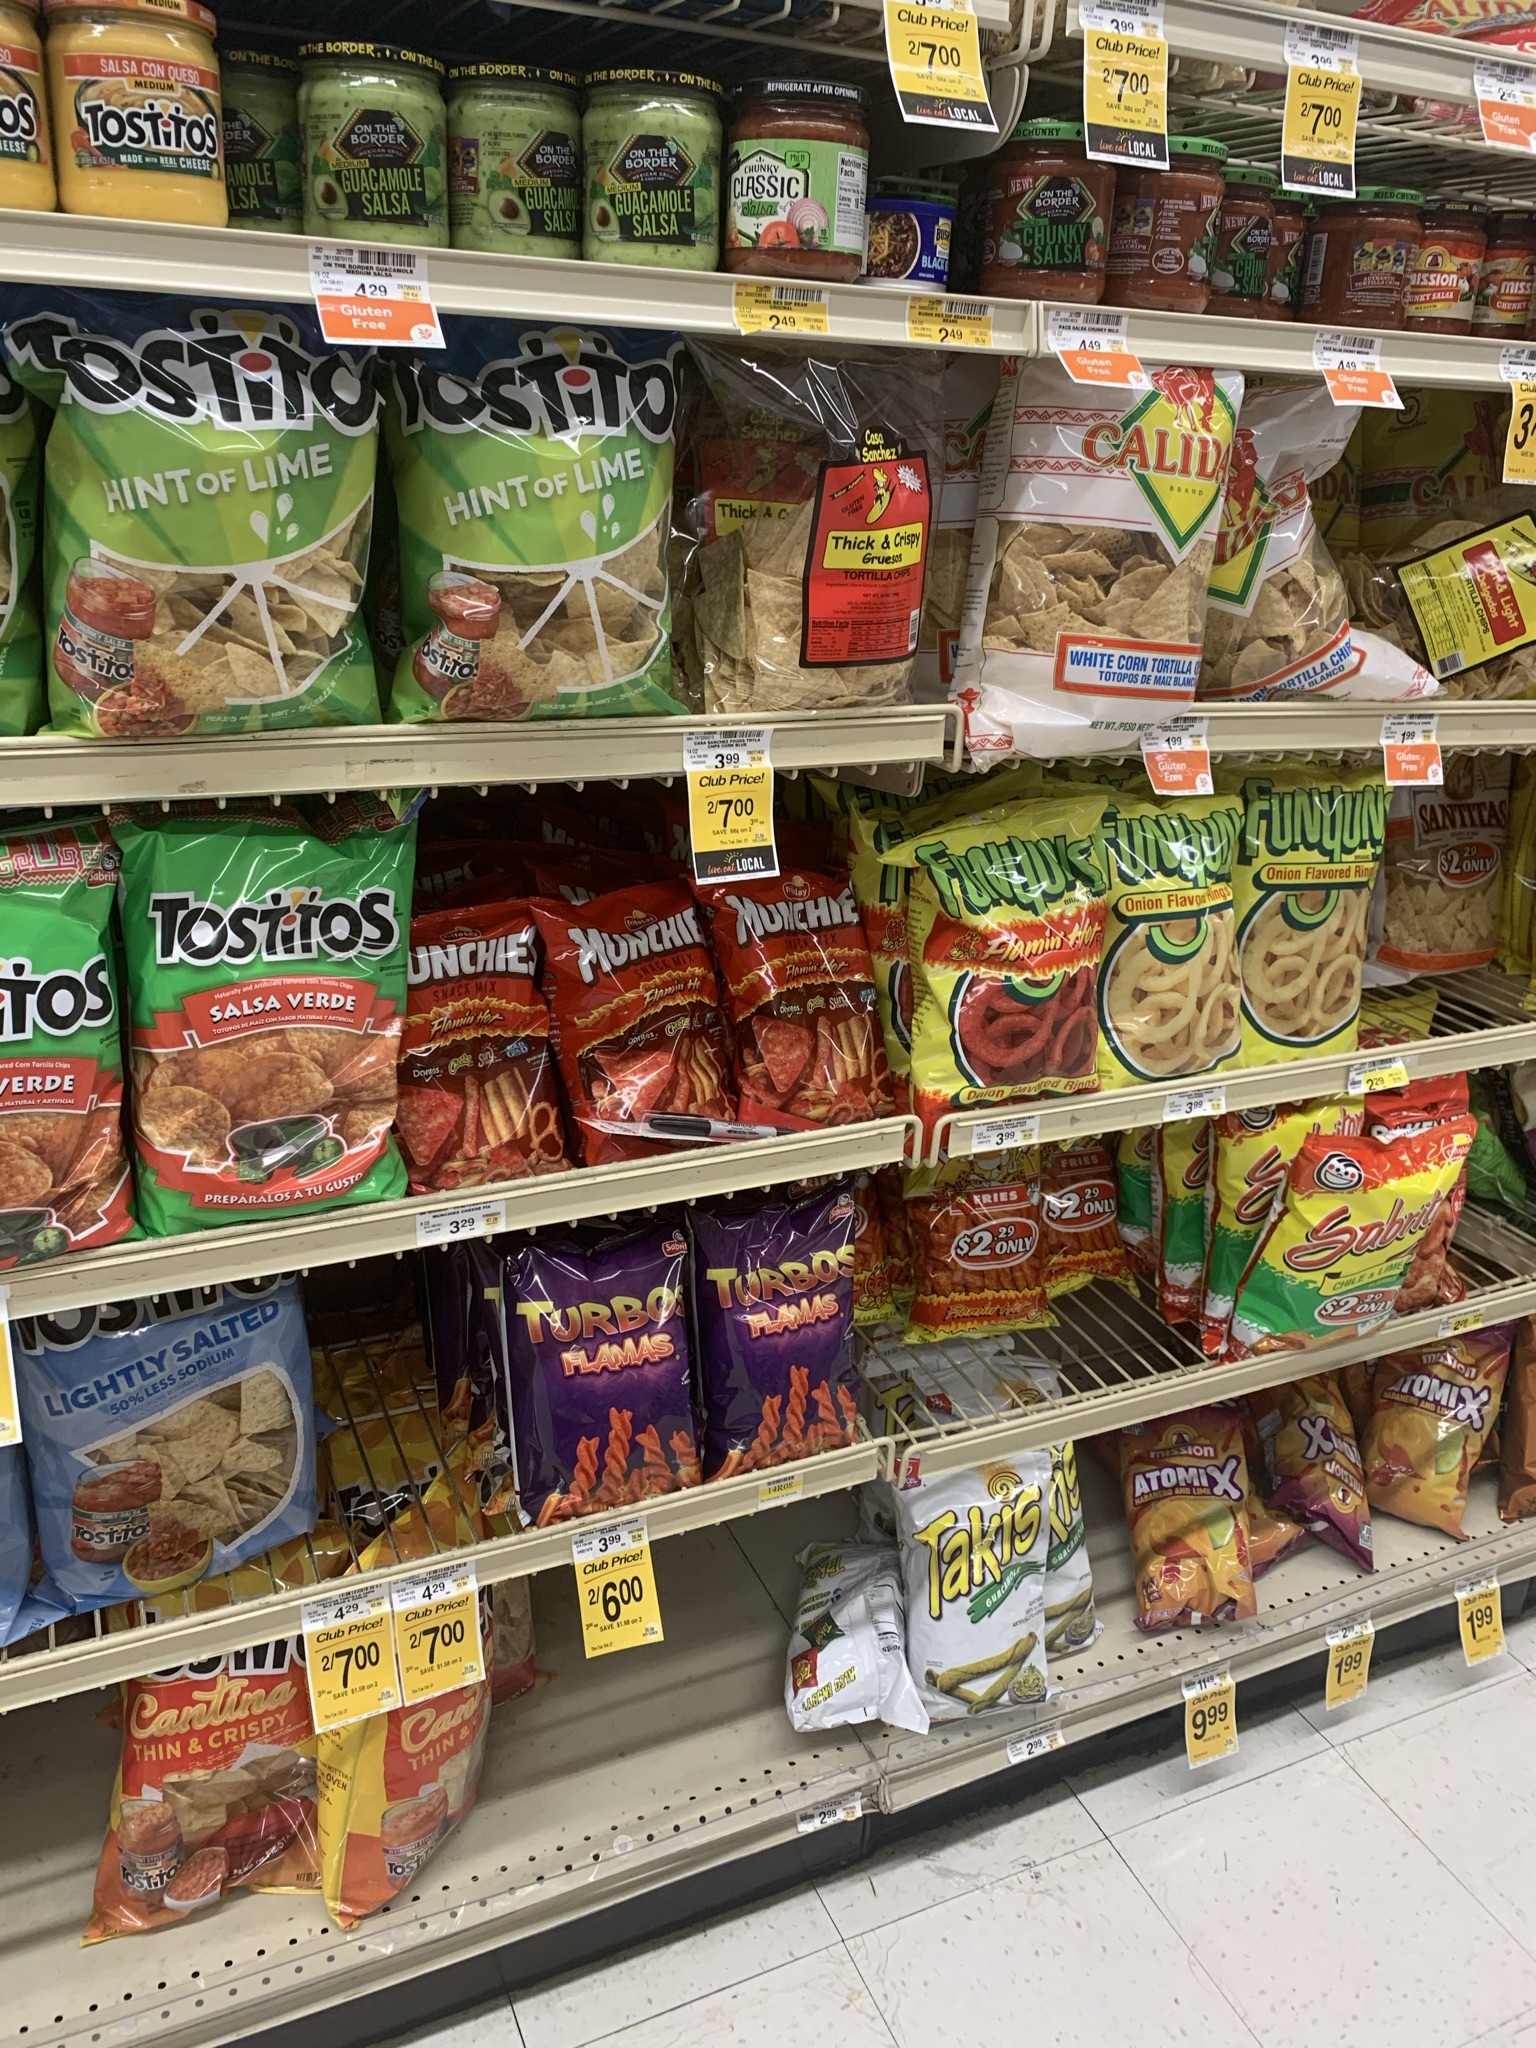chip: (74, 334, 407, 722), (144, 822, 428, 1247), (5, 1256, 302, 1606), (418, 347, 687, 710), (887, 789, 1094, 1100), (2, 839, 111, 1255), (528, 1234, 686, 1521), (1263, 1134, 1467, 1356), (703, 1201, 850, 1484), (1234, 774, 1376, 1056), (407, 906, 544, 1198), (920, 1442, 1063, 1706), (570, 868, 694, 1159), (1108, 801, 1233, 1071), (744, 880, 860, 1138), (1134, 1397, 1241, 1627)
